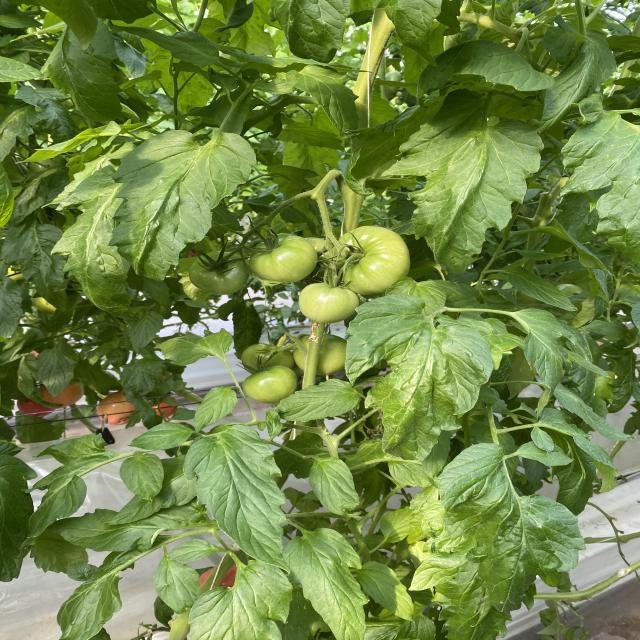n-half-riped: (97, 391, 135, 425), (36, 384, 84, 409)
n-riped: (17, 398, 55, 417)
n-unriped: (333, 225, 410, 295), (249, 233, 318, 283), (189, 251, 250, 295), (299, 282, 361, 324), (293, 333, 347, 377), (242, 365, 298, 404), (294, 237, 340, 284), (241, 343, 295, 374)
